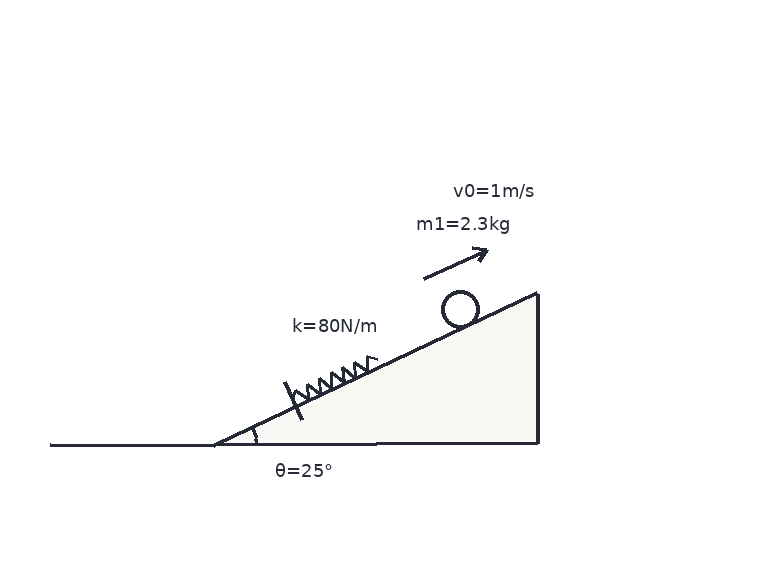ball: (439, 288, 481, 330)
ramp: (214, 292, 539, 446)
spring: (290, 354, 378, 401)
